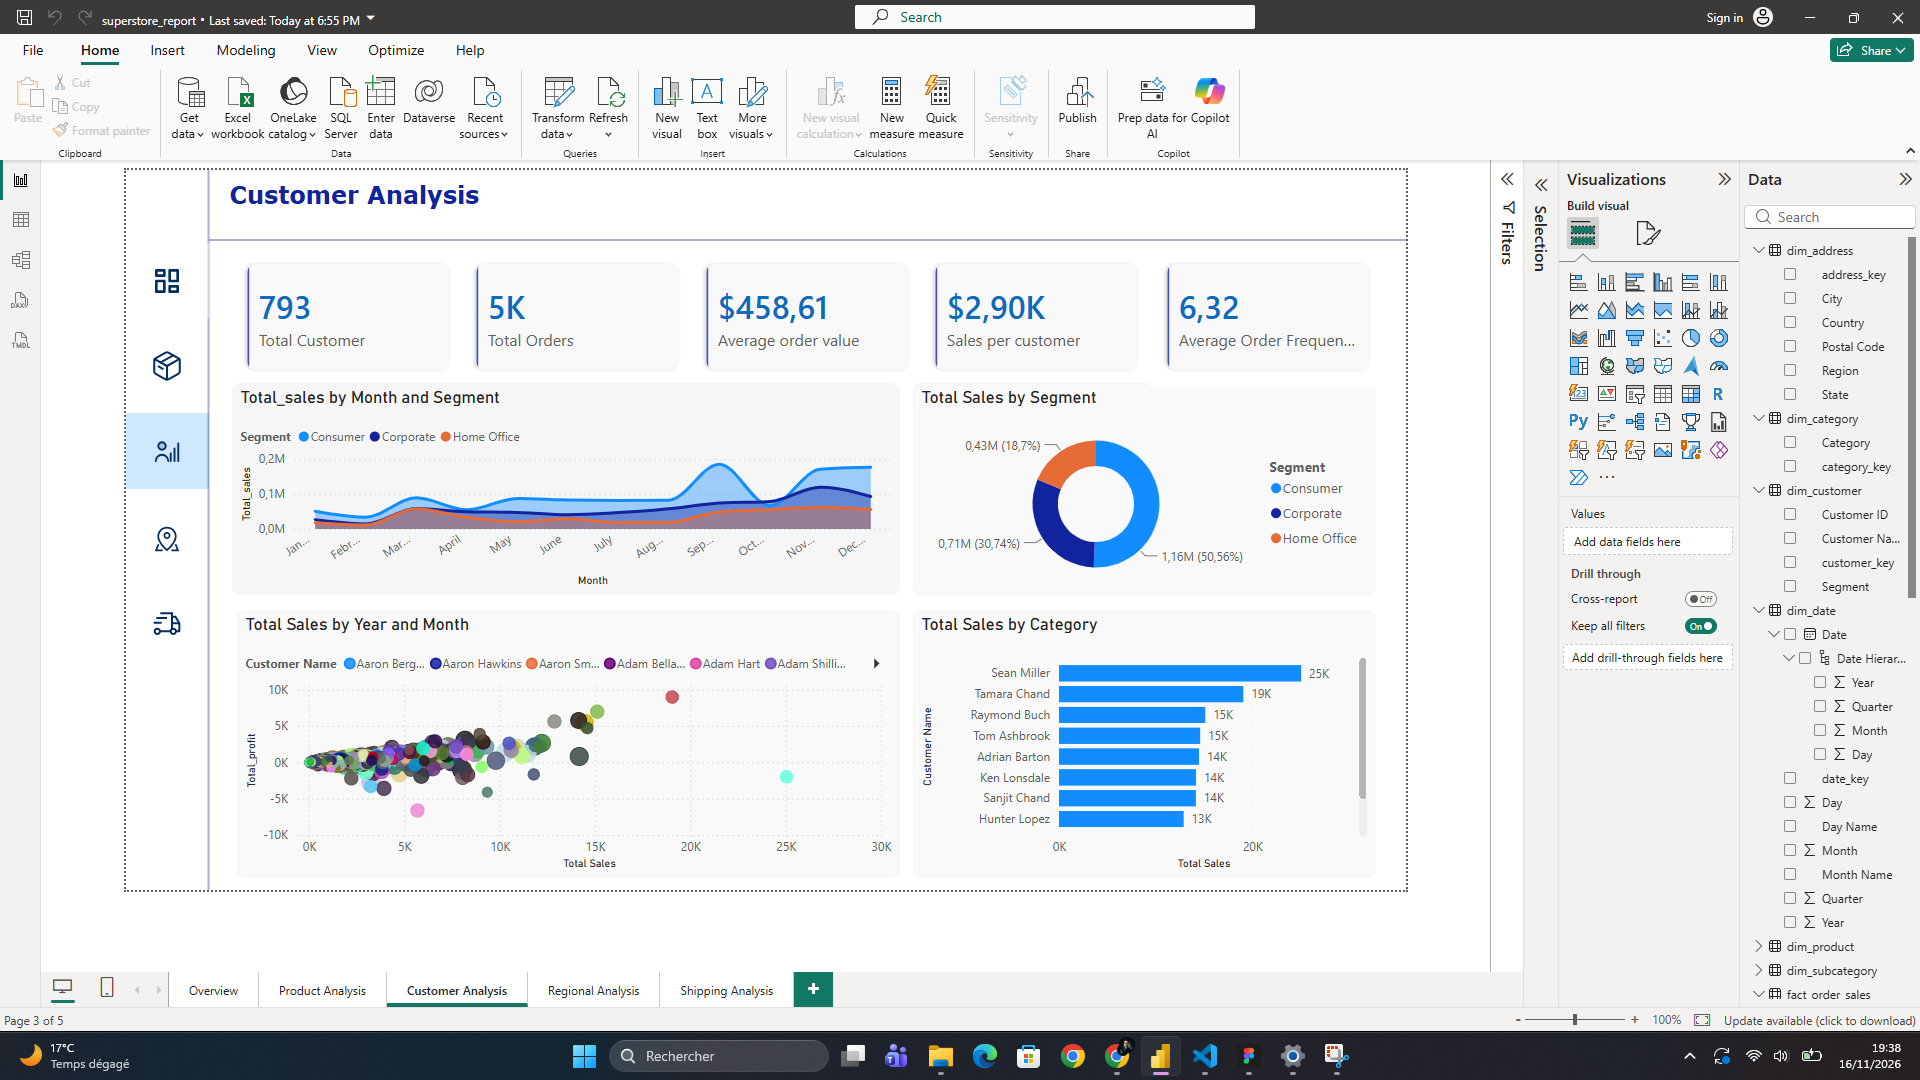

The dashboard page shown, as its layout file describes it:
{"tool":"powerbi","page":{"name":"Customer Analysis","canvas":[1280,720],"ordinal":2},"visuals":[{"type":"shape","box":[83,0,1197,140],"z":0},{"type":"actionButton","title":"Product analysis","box":[0,158,83,75],"z":1000},{"type":"actionButton","title":"Product analysis","box":[0,243,83,76],"z":2000},{"type":"actionButton","title":"Product analysis","box":[0,330,83,77],"z":3000},{"type":"actionButton","title":"Product analysis","box":[0,417,83,71],"z":4000},{"type":"cardVisual","fields":{"Data":["fact_order_sales.Total_customer"]},"box":[99,72,248,150],"z":5000},{"type":"cardVisual","fields":{"Data":["fact_order_sales.Total_orders"]},"box":[328,72,248,150],"z":6000},{"type":"cardVisual","fields":{"Data":["fact_order_sales.Average_order_value"]},"box":[558,72,248,150],"z":7000},{"type":"cardVisual","title":"Total Products","fields":{"Data":["fact_order_sales.Sales_per_customer"]},"box":[787,72,248,150],"z":8000},{"type":"scatterChart","title":"Total Sales by Year and Month","fields":{"X":["fact_order_sales.Total_sales"],"Size":["fact_order_sales.Total_orders"],"Y":["fact_order_sales.Total_profit"],"Series":["dim_customer.Customer Name"]},"box":[111,440,663,268],"z":9000},{"type":"barChart","title":"Total Sales by Category","fields":{"Y":["fact_order_sales.Total_sales"],"Category":["dim_customer.Customer Name"]},"box":[787,440,463,268],"z":10000},{"type":"donutChart","fields":{"Category":["dim_customer.Segment"],"Y":["fact_order_sales.Total_sales"]},"box":[787,213,463,212],"z":11000},{"type":"textbox","box":[99,5,296,54],"z":12000},{"type":"cardVisual","title":"Total Products","fields":{"Data":["fact_order_sales.Orders_per_customer"]},"box":[1019,72,248,150],"z":13000},{"type":"shape","box":[59,0,47,720],"z":14000},{"type":"actionButton","title":"Product analysis","box":[0,73,83,75],"z":15000},{"type":"areaChart","fields":{"Category":["dim_date.Date.Variation.Date Hierarchy.Month"],"Y":["fact_order_sales.Total_sales"],"Series":["dim_customer.Segment"]},"box":[106,213,668,212],"z":16000}]}

Visuals, with their boxes on the page's 1280x720 design canvas (x1, y1, x2, y2). These are canvas units, not pixel positions in the 1920x1080 screenshot, which may show the page scaled, cropped or inside an application window:
shape: rect(83, 0, 1280, 140)
"Product analysis" actionButton: rect(0, 158, 83, 233)
"Product analysis" actionButton: rect(0, 243, 83, 319)
"Product analysis" actionButton: rect(0, 330, 83, 407)
"Product analysis" actionButton: rect(0, 417, 83, 488)
cardVisual - fact_order_sales.Total_customer: rect(99, 72, 347, 222)
cardVisual - fact_order_sales.Total_orders: rect(328, 72, 576, 222)
cardVisual - fact_order_sales.Average_order_value: rect(558, 72, 806, 222)
"Total Products" cardVisual: rect(787, 72, 1035, 222)
"Total Sales by Year and Month" scatterChart: rect(111, 440, 774, 708)
"Total Sales by Category" barChart: rect(787, 440, 1250, 708)
donutChart - dim_customer.Segment x fact_order_sales.Total_sales: rect(787, 213, 1250, 425)
textbox: rect(99, 5, 395, 59)
"Total Products" cardVisual: rect(1019, 72, 1267, 222)
shape: rect(59, 0, 106, 720)
"Product analysis" actionButton: rect(0, 73, 83, 148)
areaChart - dim_date.Date.Variation.Date Hierarchy.Month x fact_order_sales.Total_sales: rect(106, 213, 774, 425)
